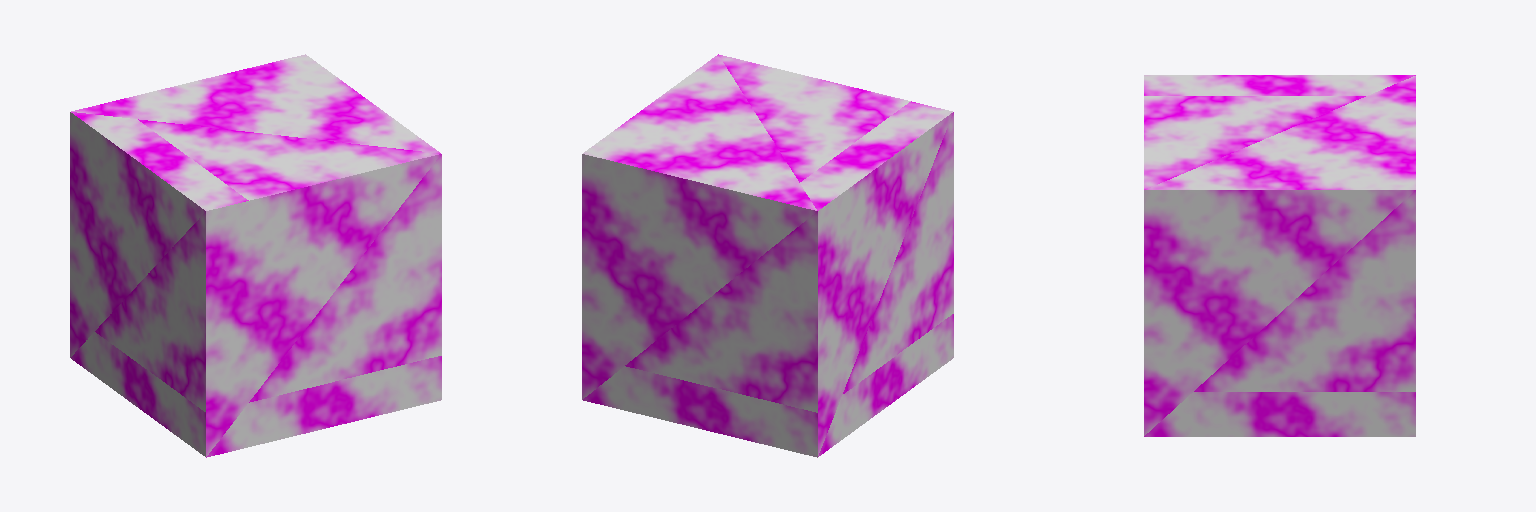
3 renders of one model, left to right at view 1: azimuth 30°, elevation 25°; view 2: azimuth 150°, elevation 25°; view 3: azimuth 270°, elevation 25°, orthographic.
Visible parts, largest first — view 1: Cube_Cube.001; view 2: Cube_Cube.001; view 3: Cube_Cube.001.
Part boxes in pixels (left/top/right/bottom): Cube_Cube.001: left=70, top=54, right=441, bottom=457; Cube_Cube.001: left=582, top=54, right=953, bottom=457; Cube_Cube.001: left=1144, top=75, right=1415, bottom=436.
Size of the model in its own units: 2 by 2 by 2.
1 materials, 1 textured.